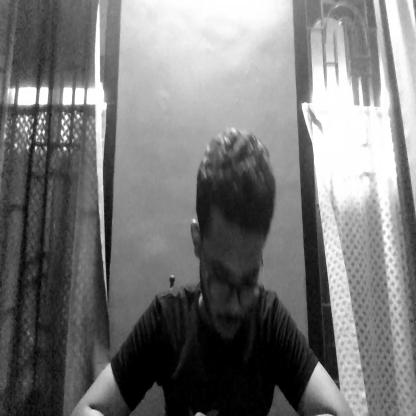Distracted: (198, 138, 271, 354)
